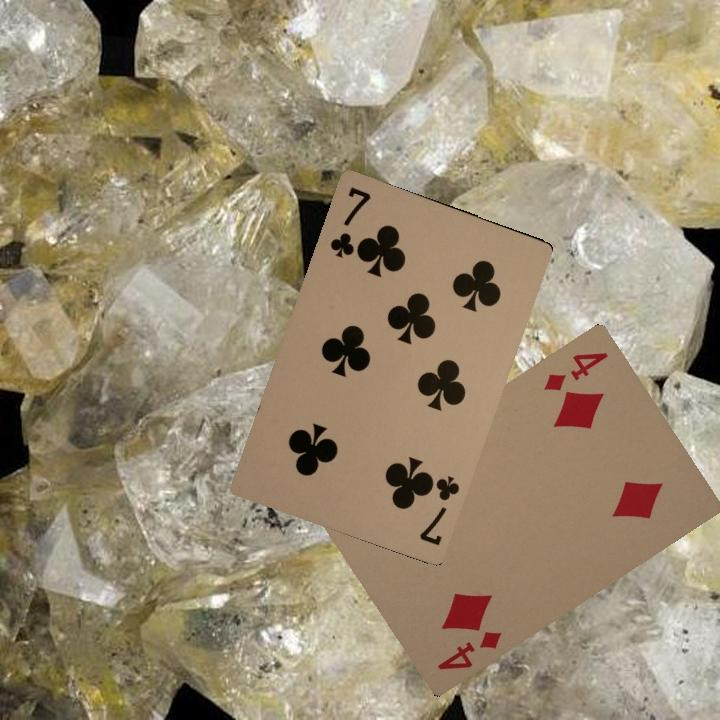4d: (540, 348, 611, 394), (433, 627, 504, 673)
7c: (325, 182, 374, 261), (415, 471, 463, 548)
